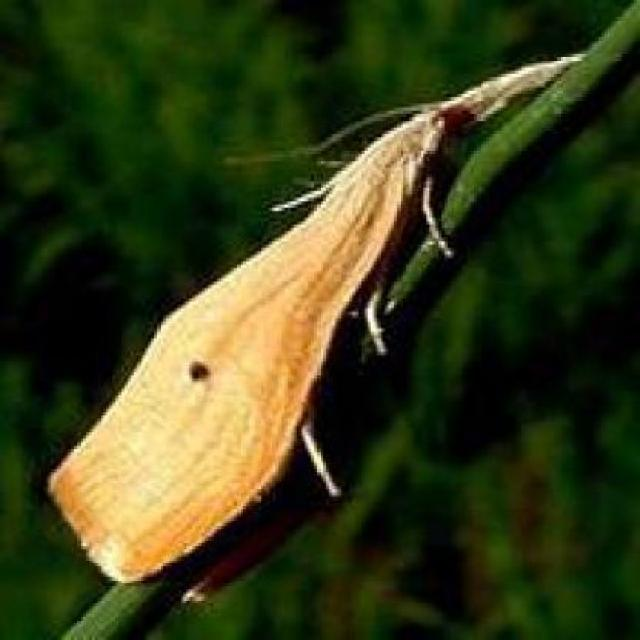stem-borer: (39, 45, 588, 587)
